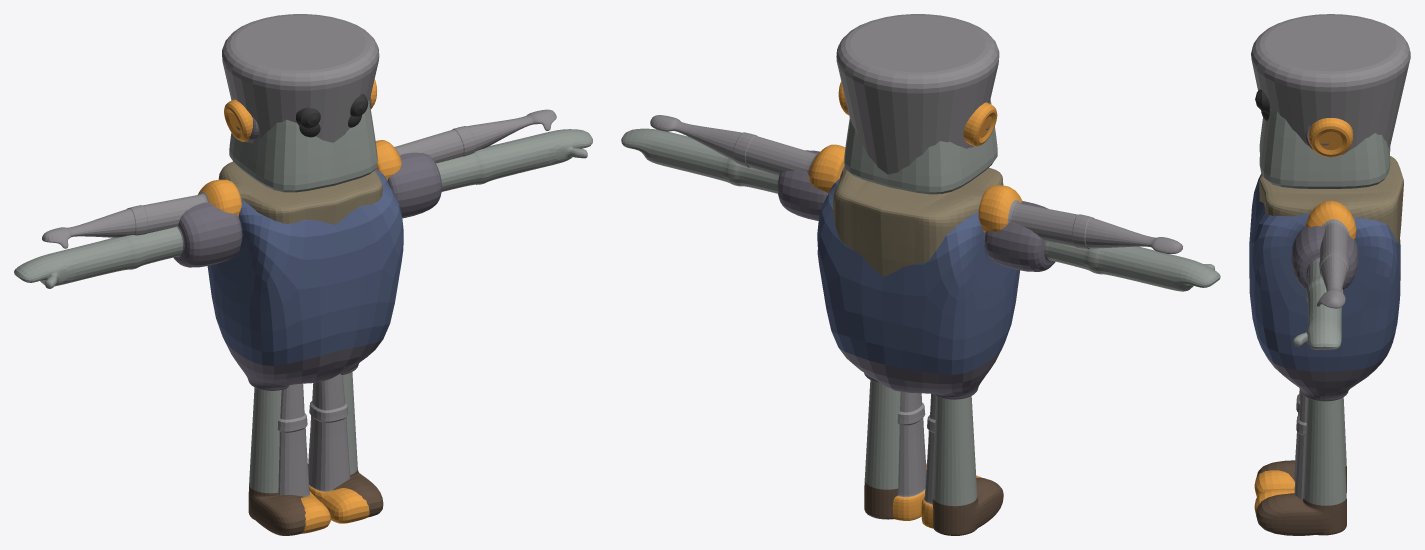
Rendered from hoppa robot.fbx.
The picture shows the model from 3 angles, left to right: view 1: azimuth 30°, elevation 25°; view 2: azimuth 150°, elevation 25°; view 3: azimuth 270°, elevation 25°; orthographic projection. The views are drawn at different scales.
Parts seen in each view (by area): view 1: Cube.001, Cube; view 2: Cube.001, Cube; view 3: Cube.001, Cube.
Part boxes in pixels (x1,y1,x2,y2): Cube.001: (14, 97, 592, 535); Cube: (42, 14, 556, 533); Cube.001: (621, 99, 1220, 535); Cube: (650, 14, 1182, 528); Cube.001: (1249, 110, 1400, 535); Cube: (1251, 14, 1410, 515).
Size of the model in its own units: 230 by 178 by 55.57.
